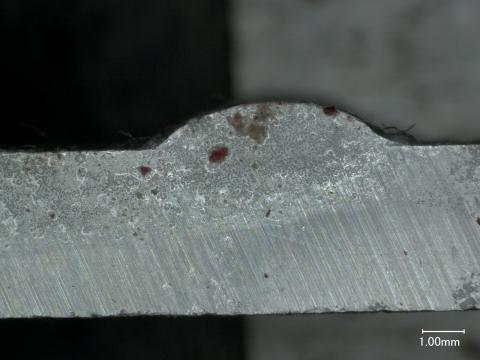test: (155, 101, 402, 149)
